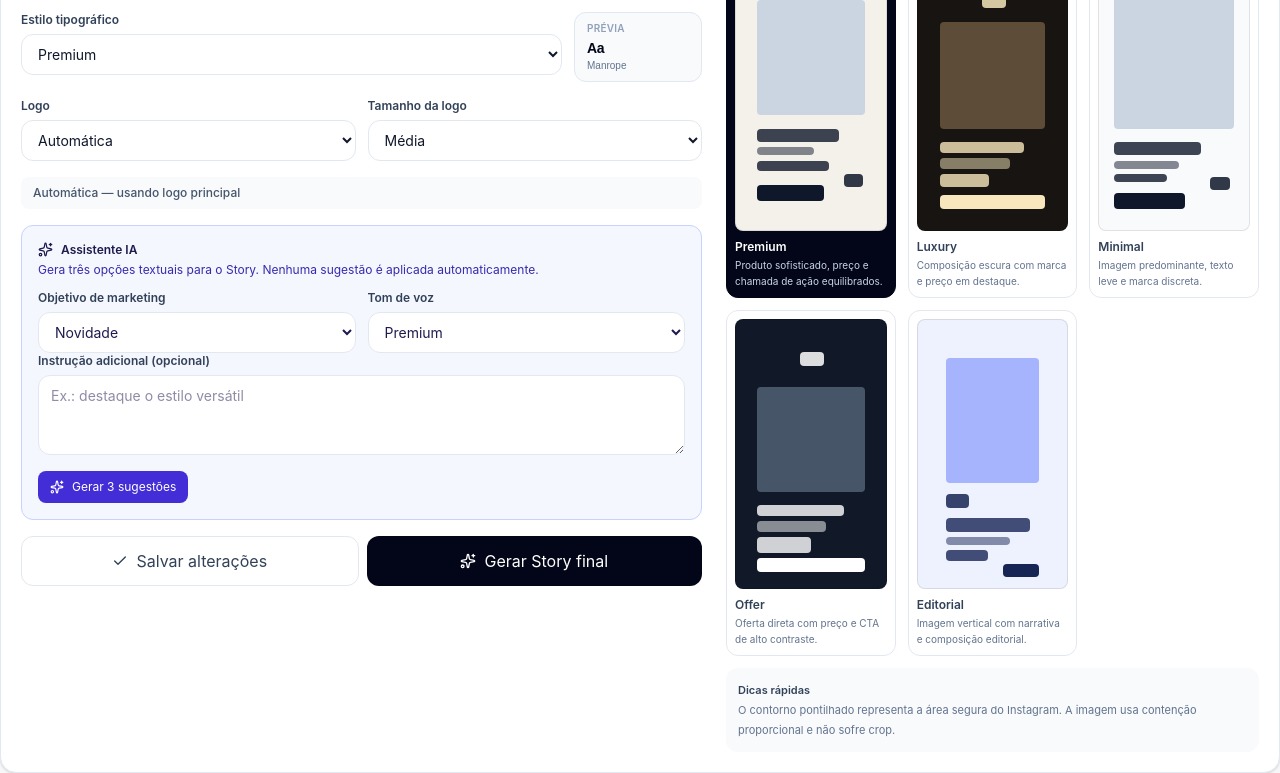
Test case: StoryComposer › uses visual catalog cards for all five layouts and marks a rendered Story stale after selection
The image size is (1280, 773).
(page scrolled)
expect the button with aria-label "Selecionar layout Offer" is shown: met, box x1=726 y1=310 x2=896 y2=656
Click the button with aria-label "Selecionar layout Editorial".
click(993, 483)  # box x1=908 y1=310 x2=1077 y2=656
(page scrolled)
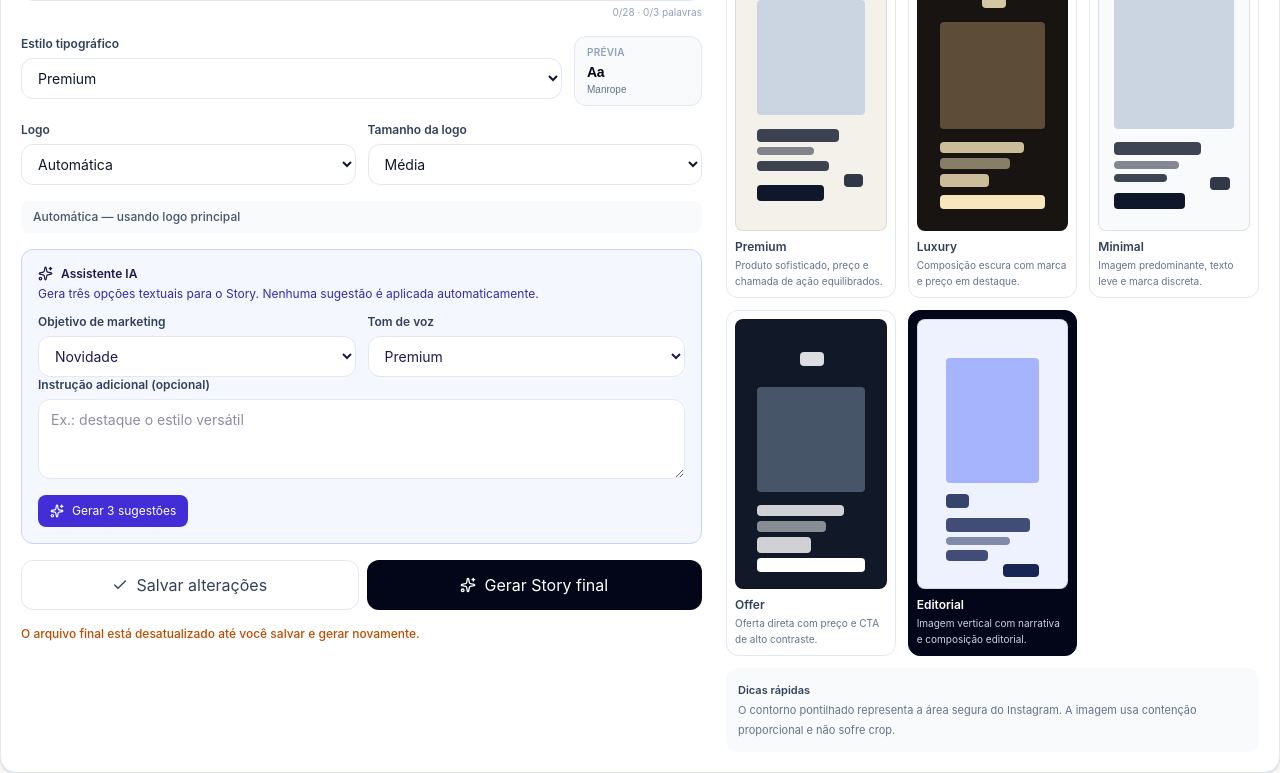
expect the text "O arquivo final está desatualizado até você salvar e gerar novamente." is shown: met, box x1=21 y1=626 x2=420 y2=641
